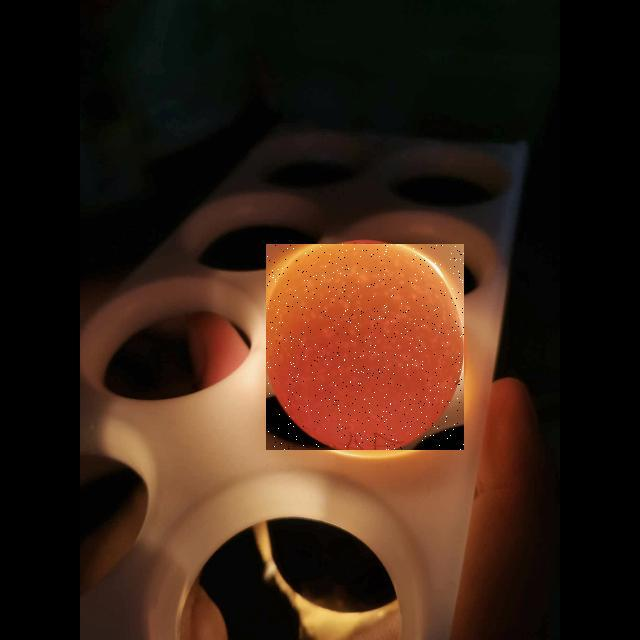Infertile: (266, 244, 464, 450)
